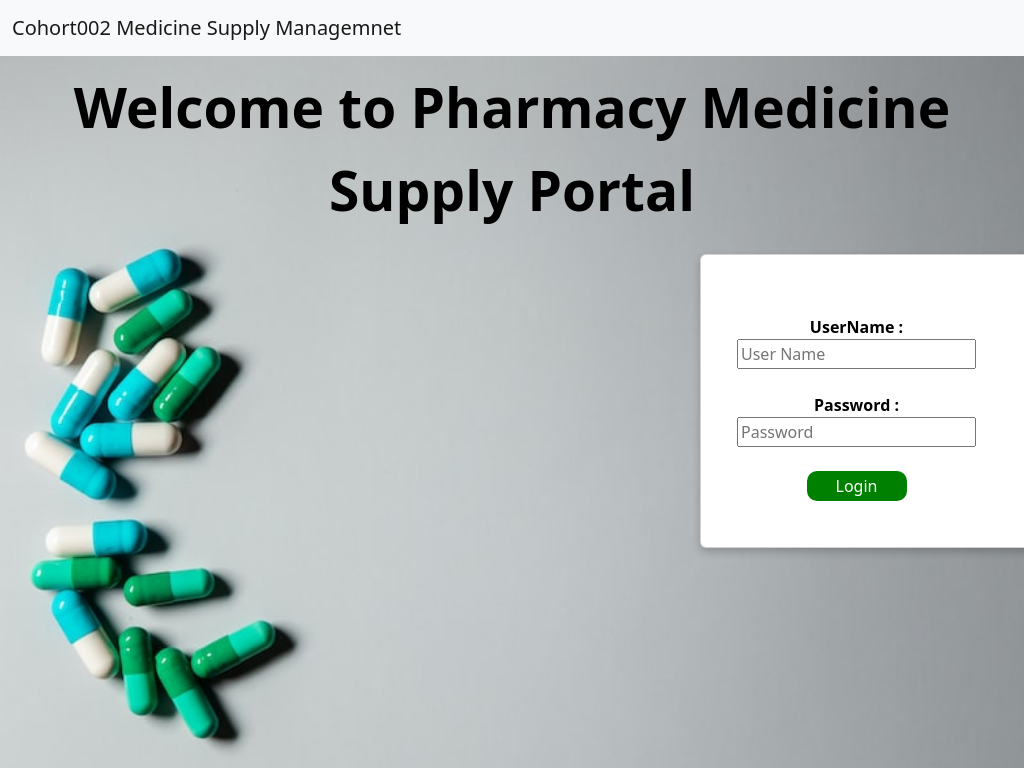
Scenario: Eight Test › Login Page error
Type "Shanmukh" into the field named "username" at (857,354), box [737,339,976,369]
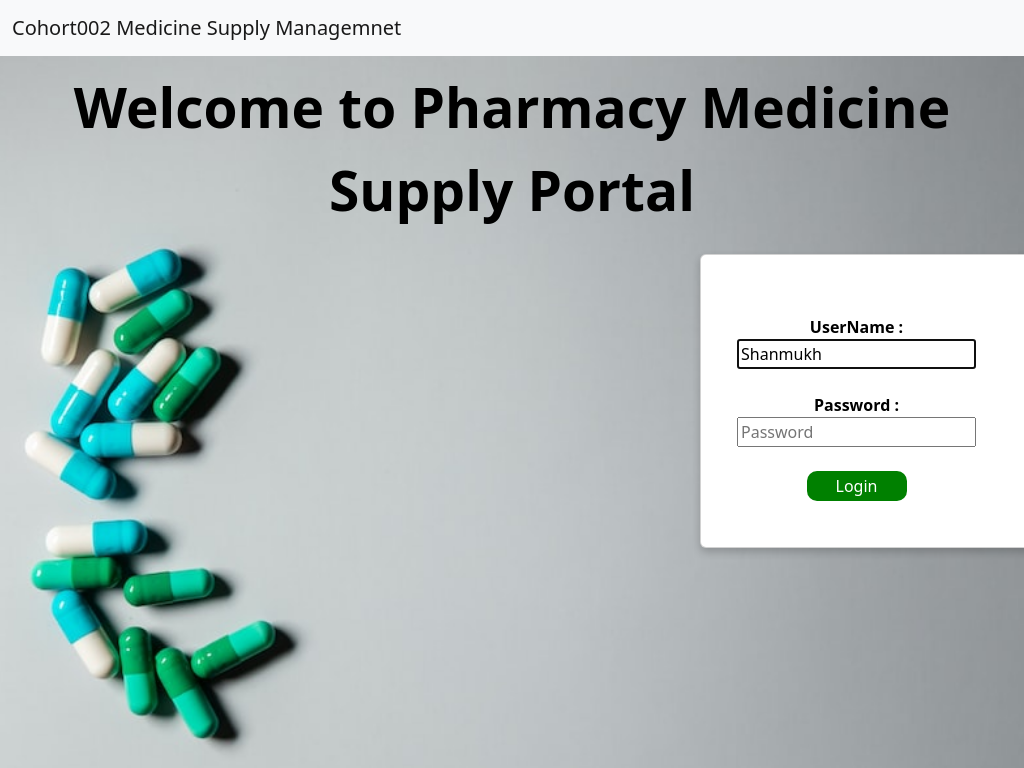
Type "shanmukh@12" into the password field named "password" at (857,432), box [737,417,976,447]
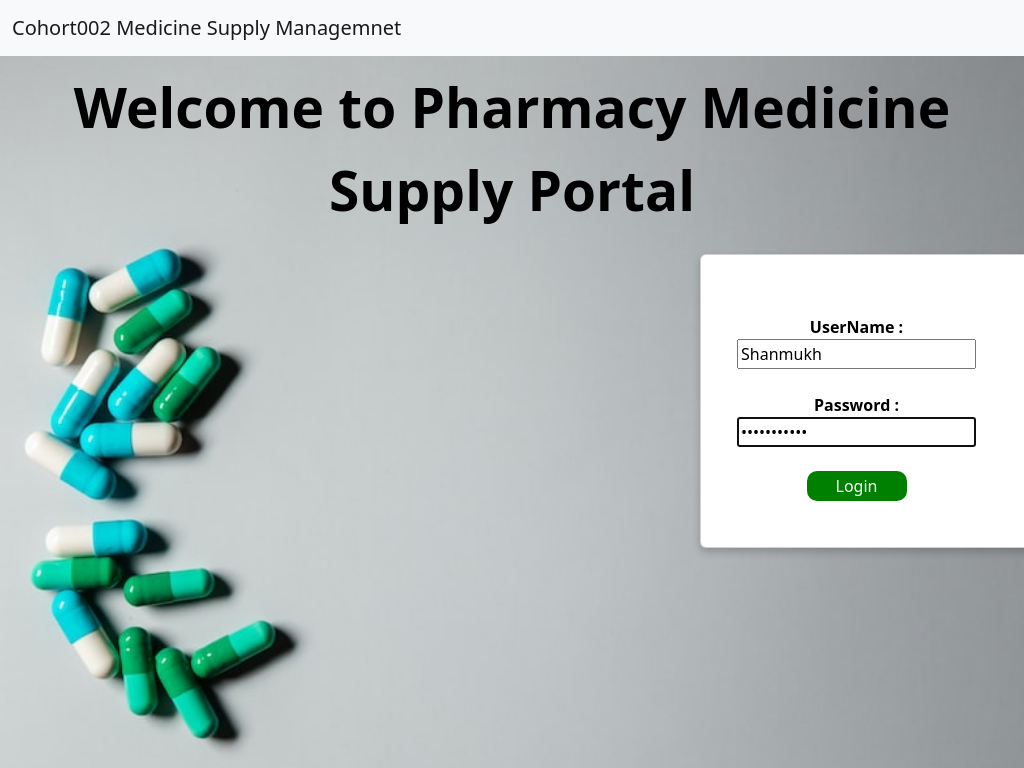
Click the button "Login" at (857,486), box [807,471,907,501]
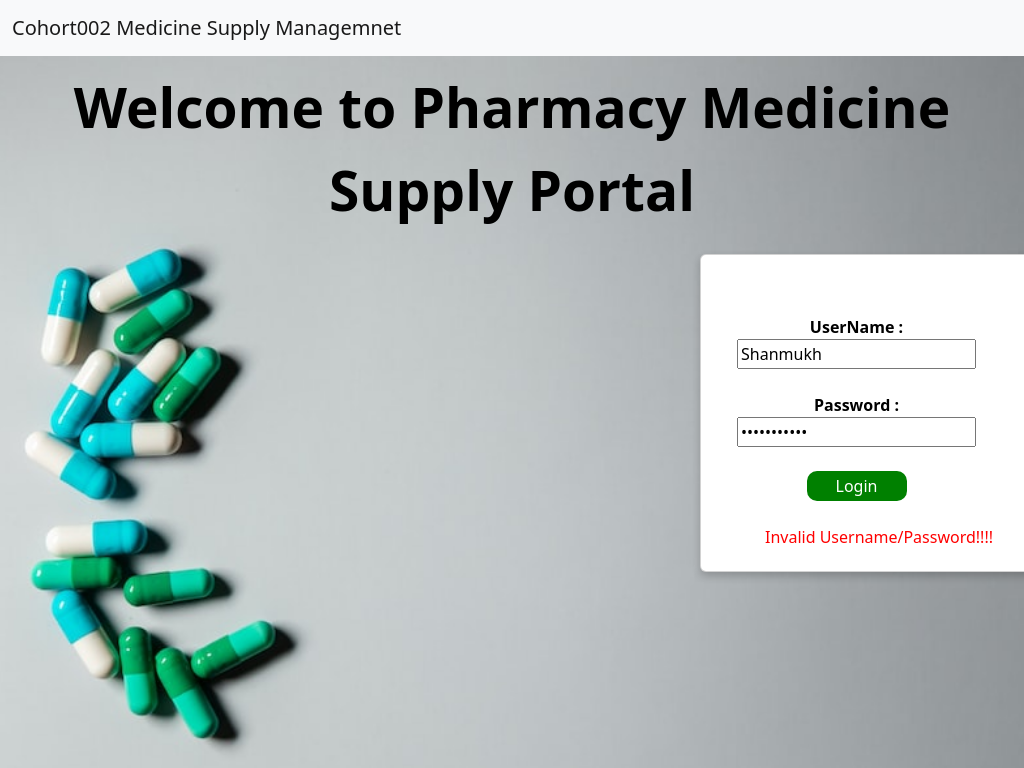
Expected: the text "Invalid Username/Password!!!!" is shown, [765,526,993,548]
